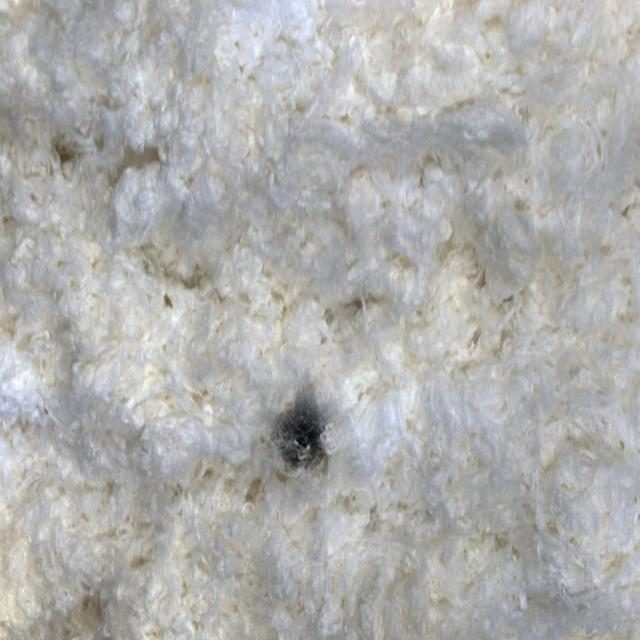dust: (251, 347, 365, 528)
